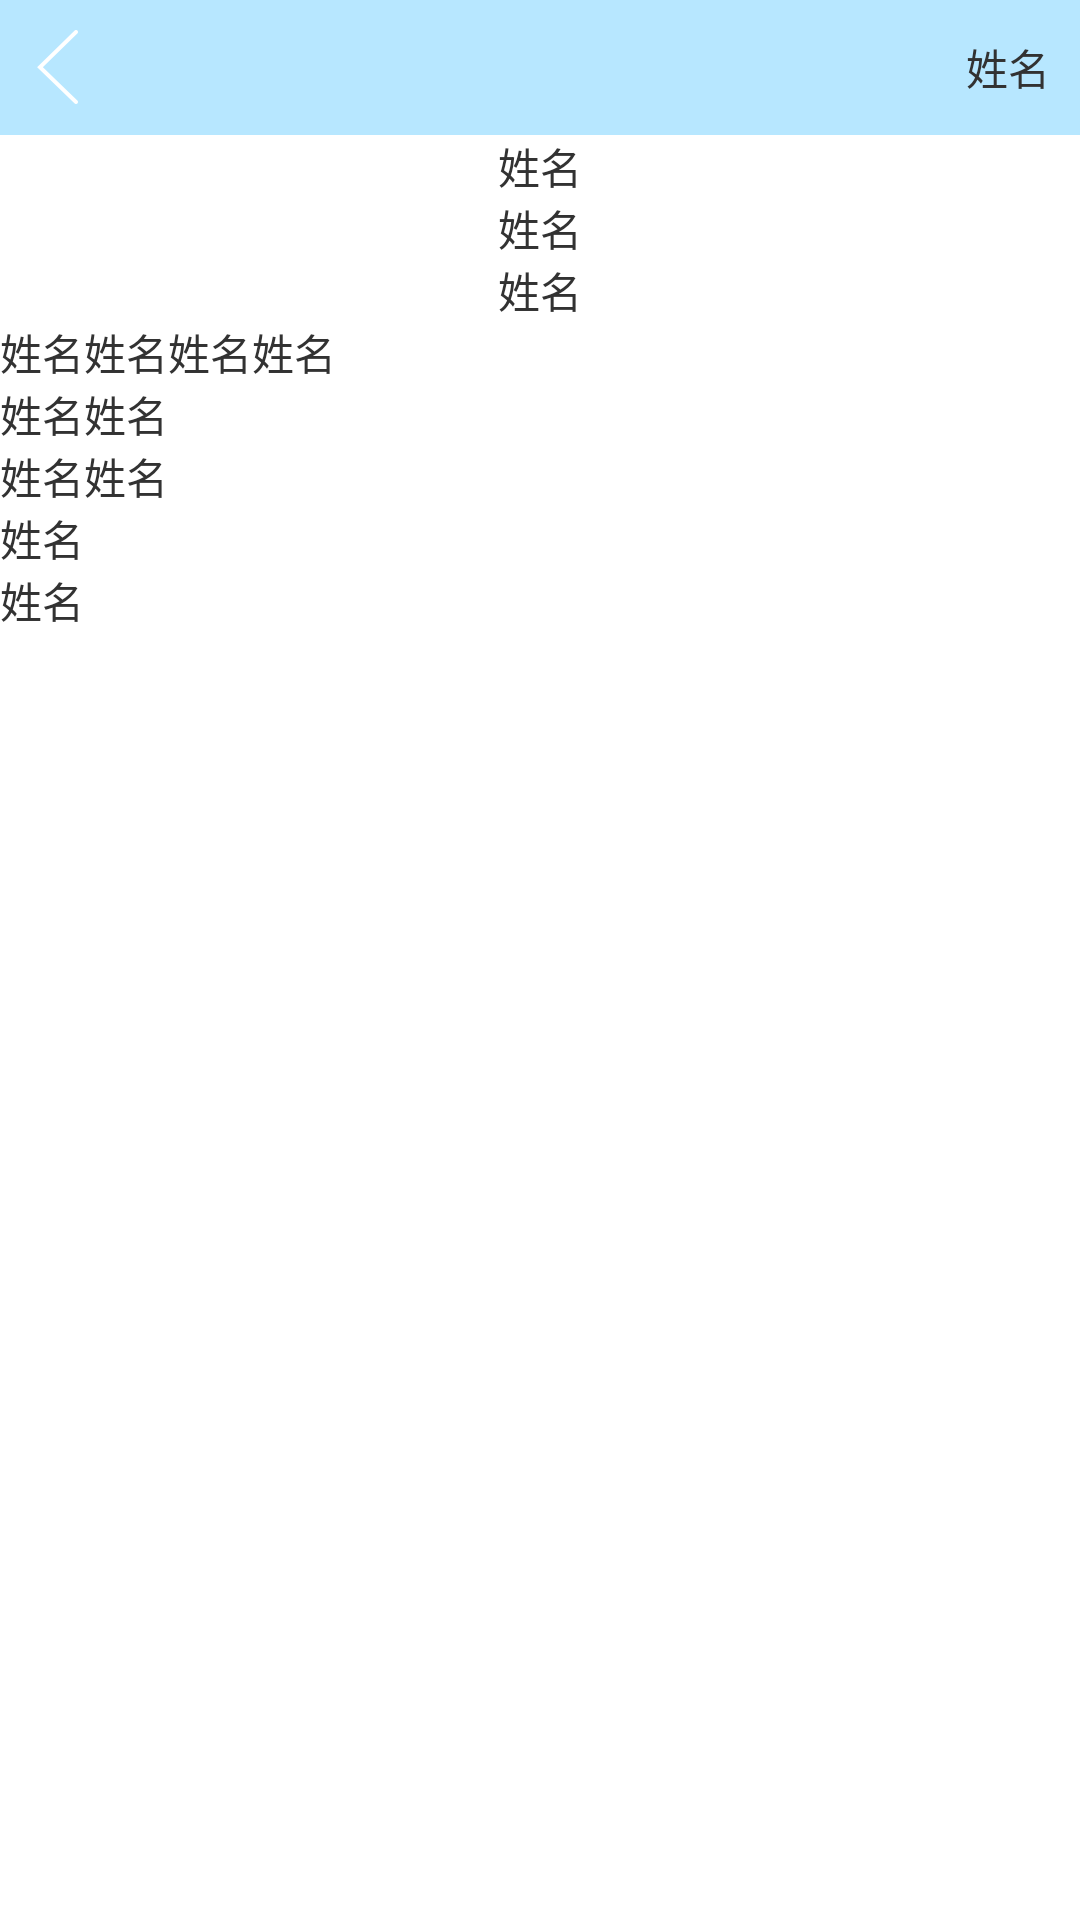

Icon click points for this 1080w x 1920h phone screenshot, format [x,y]:
returnto: [57,67]
